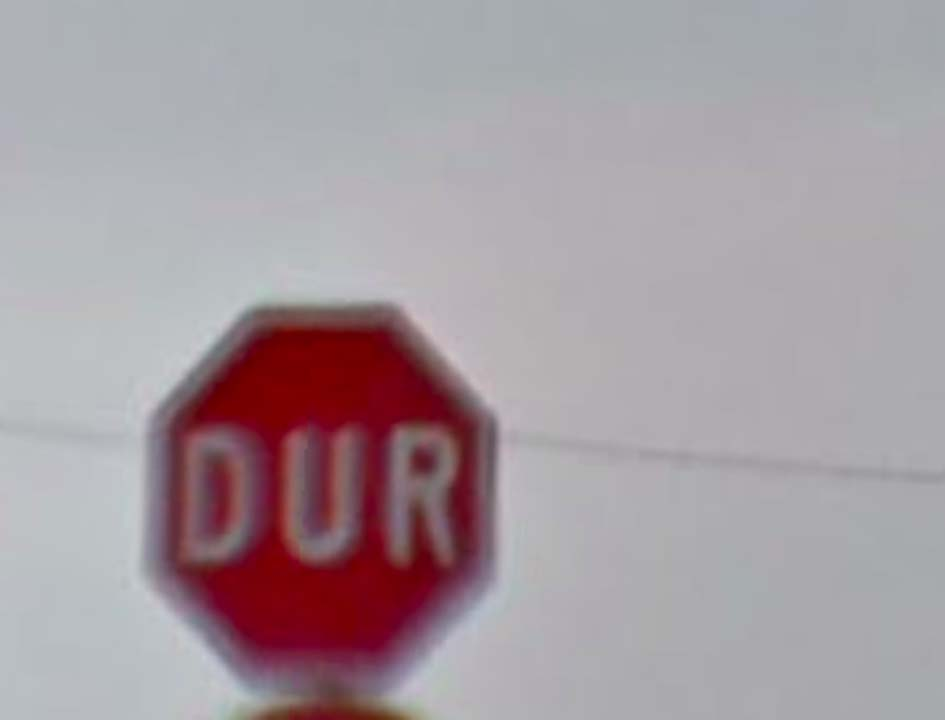arac_dur_isareti: (106, 209, 547, 698)
